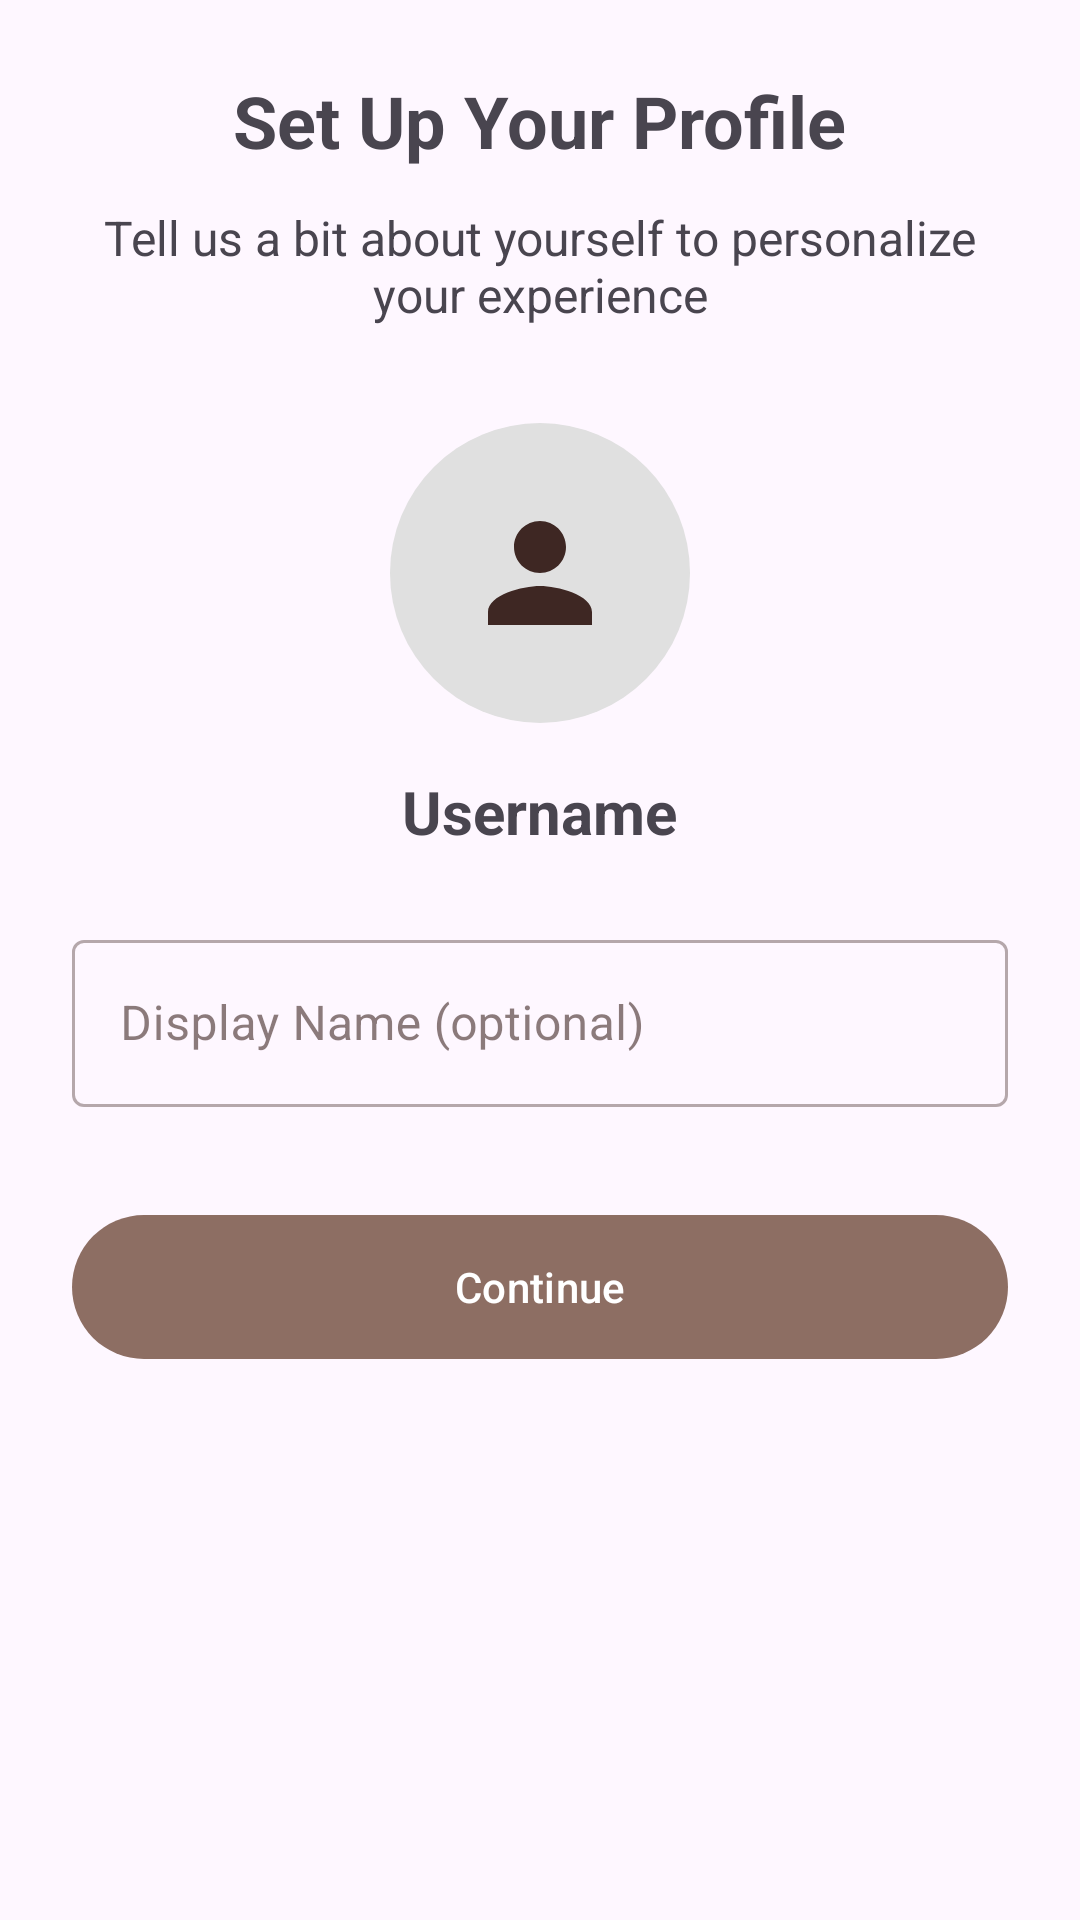

Locate icon controls on the screen. Image size 1080*1920, boxes as (x1, y1, x2, y2).
Profile Picture: (390, 423, 690, 723)
